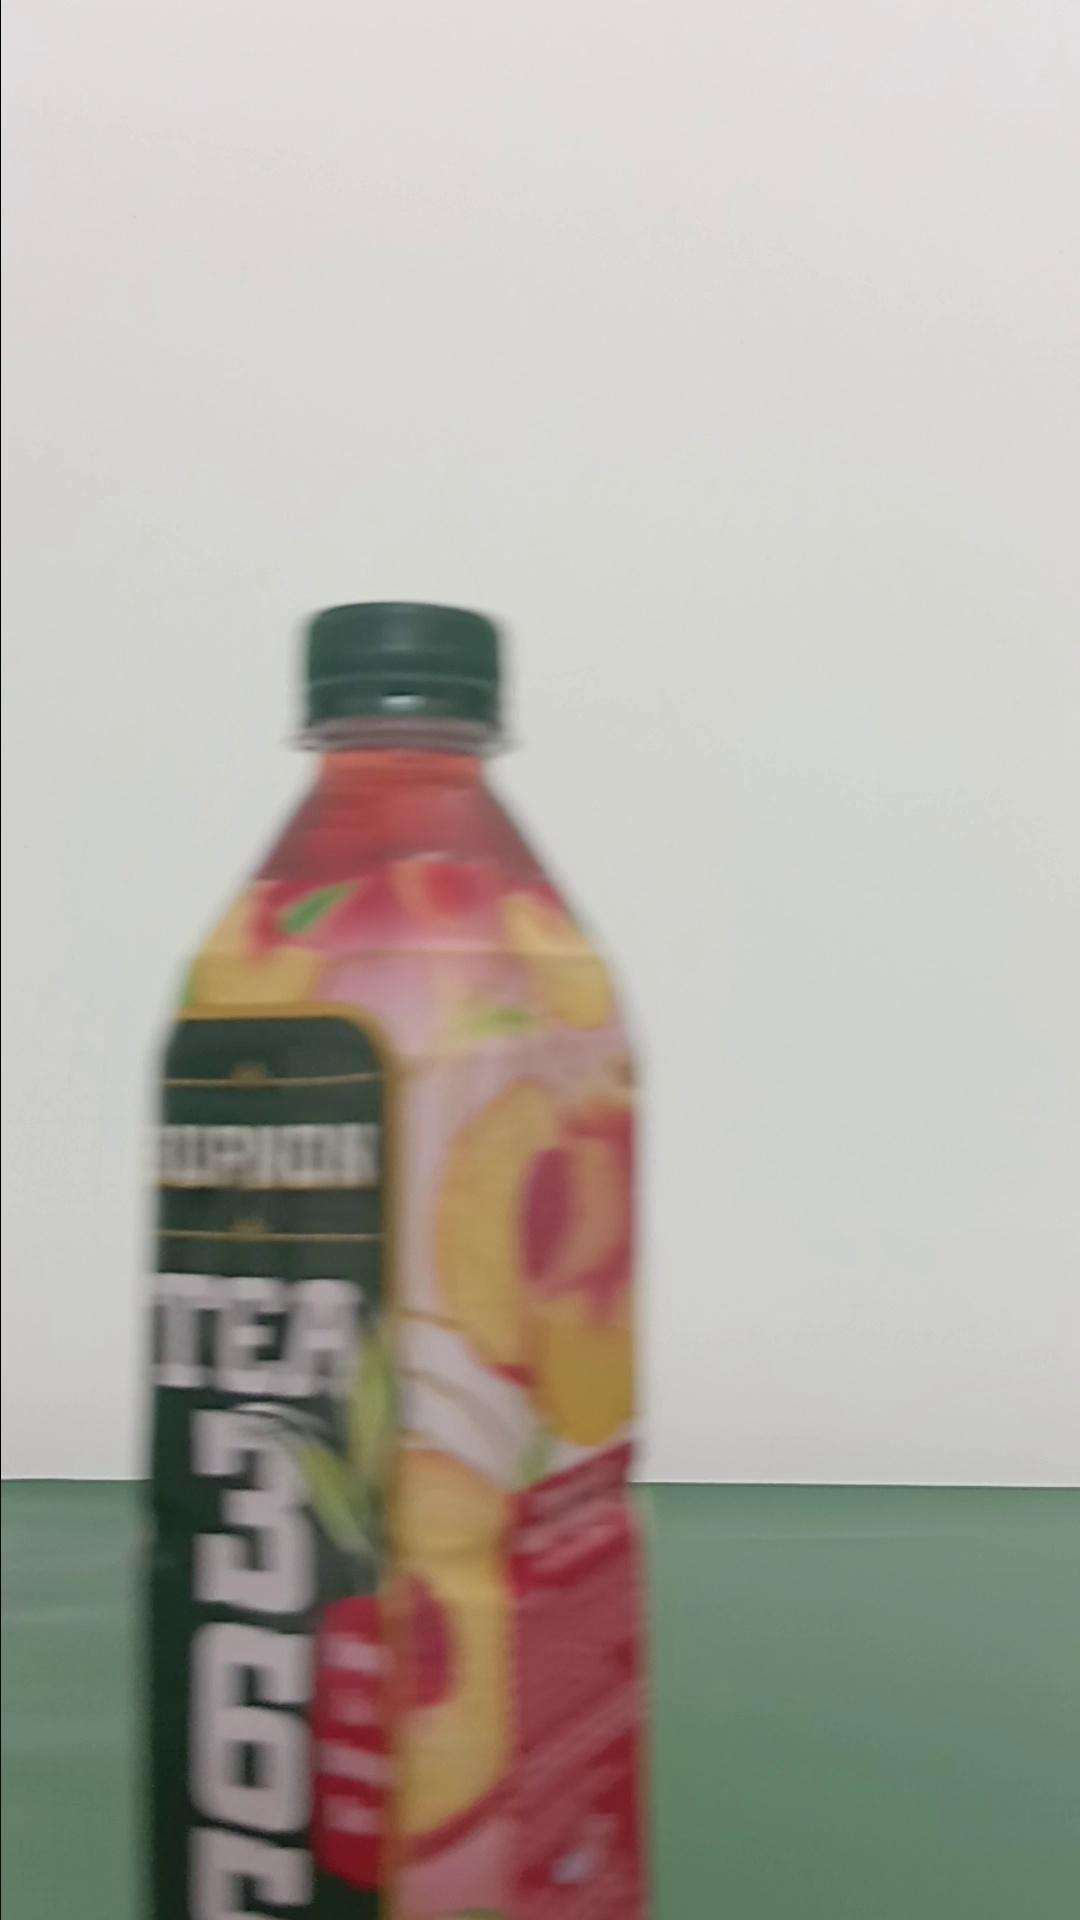khong loi: (138, 597, 653, 1916)
